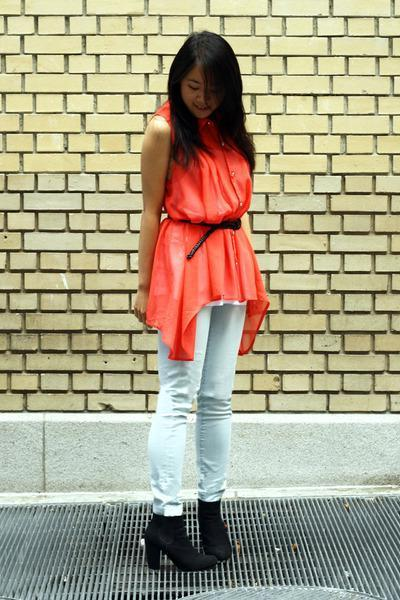dress: (142, 100, 268, 359)
trousers: (135, 286, 258, 518)
